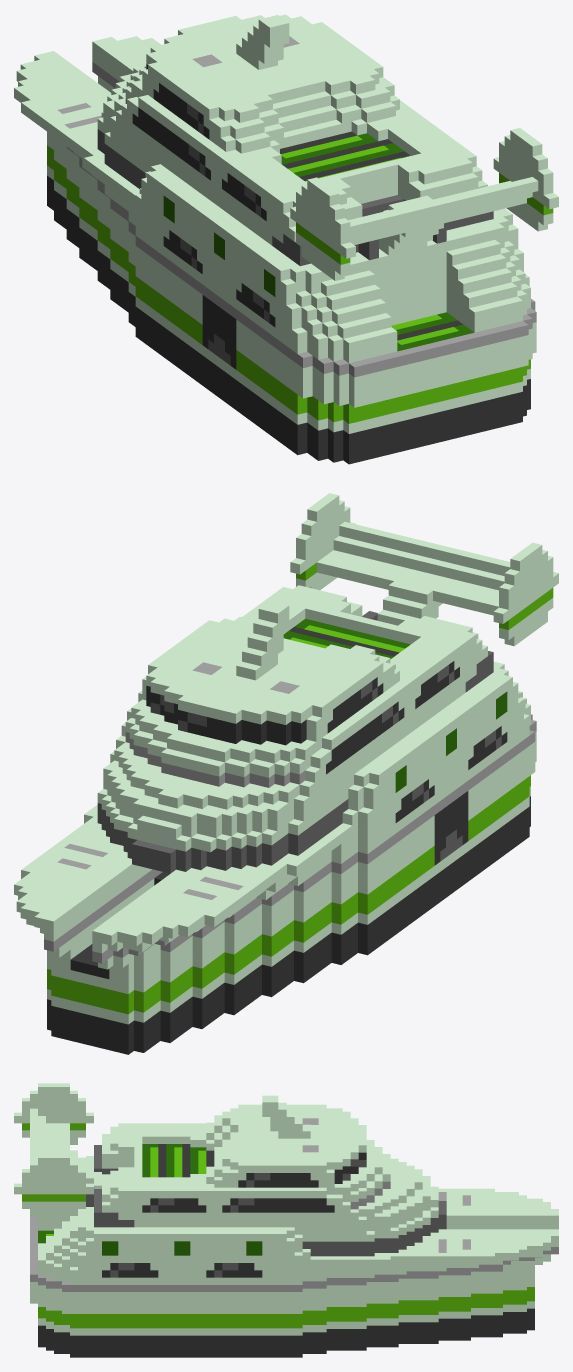
File: FerryBoat.fbx
3 renders of one model, top to bottom at view 1: azimuth 30°, elevation 25°; view 2: azimuth 150°, elevation 25°; view 3: azimuth 270°, elevation 25°, orthographic. The views are drawn at different scales.
Parts seen in each view (by area): view 1: Untitled; view 2: Untitled; view 3: Untitled.
Boxes of the visible parts, x1,y1,x2,y2 form: Untitled: (14, 14, 558, 464); Untitled: (14, 493, 558, 1054); Untitled: (14, 1083, 558, 1357).
Size of the model in its own units: 240 by 300 by 680.
Materials: 1 (1 with a texture image).
